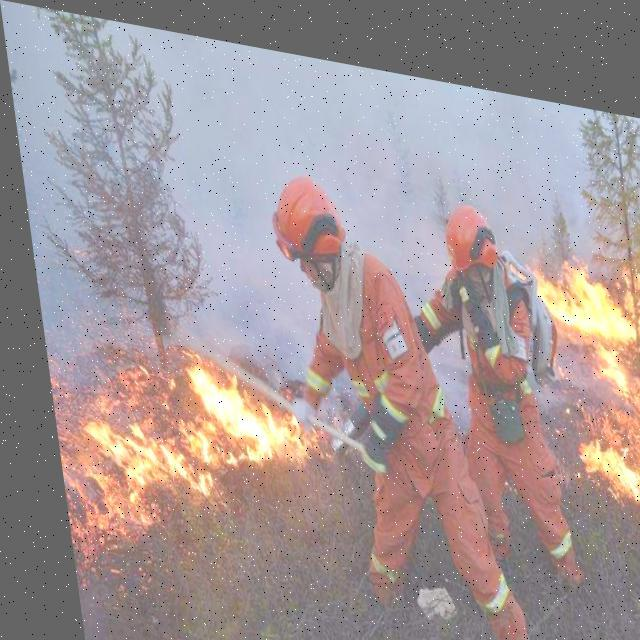Fire: (519, 219, 639, 488)
